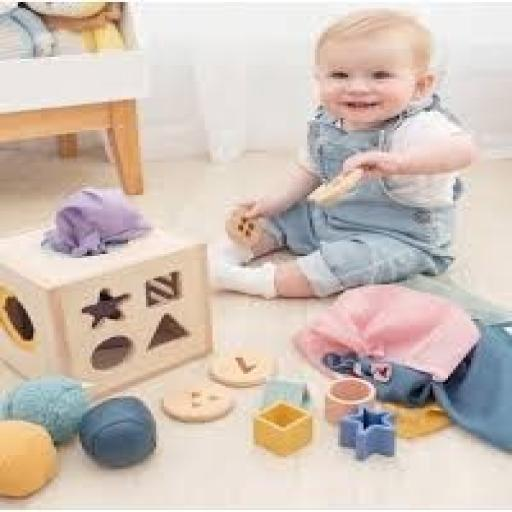baby: (210, 11, 476, 298)
